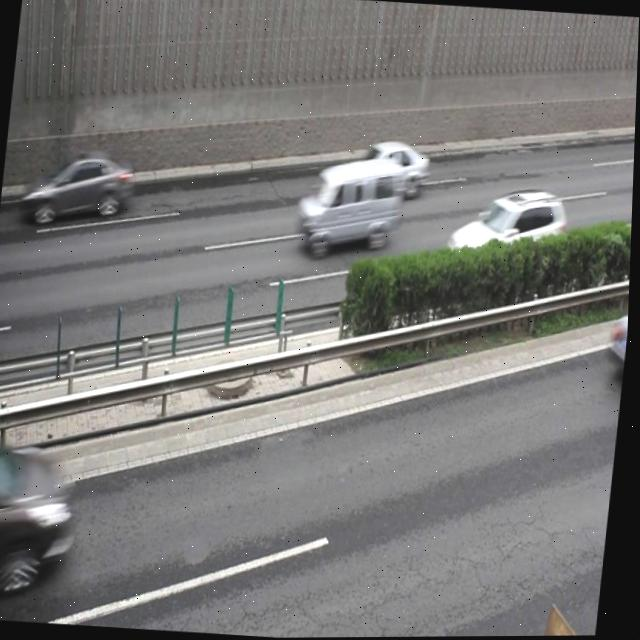car: (442, 183, 568, 288), (21, 142, 138, 230), (352, 135, 430, 202)
truck: (0, 425, 84, 603), (293, 153, 403, 256)
